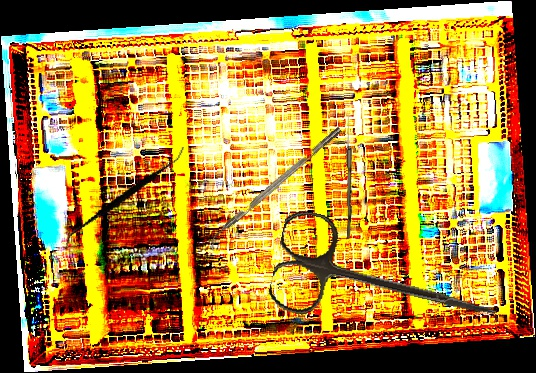Chopper: (203, 126, 348, 252)
Iris Scissors: (265, 207, 508, 357)
Spatula Surgical: (64, 120, 185, 276)
Surgical Spoon: (344, 114, 354, 240)
